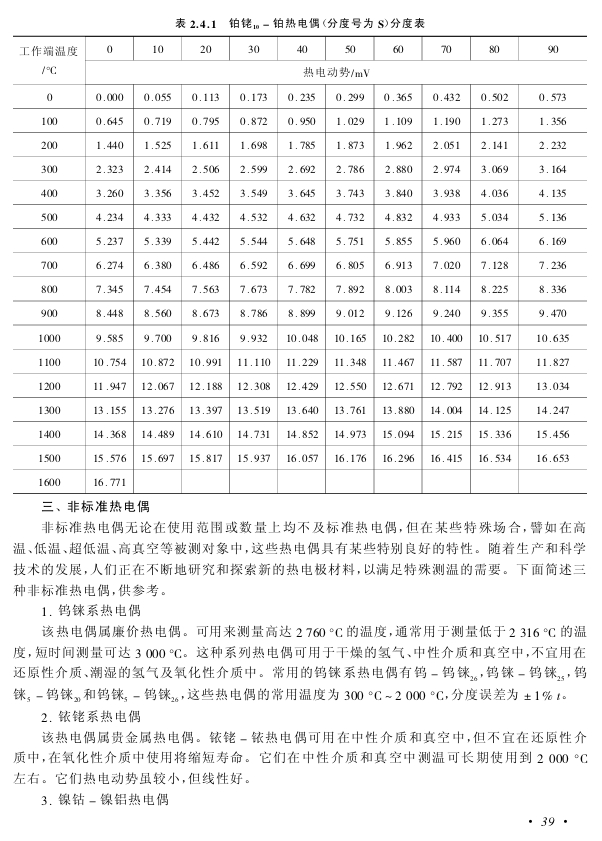table: (12, 34, 587, 494)
